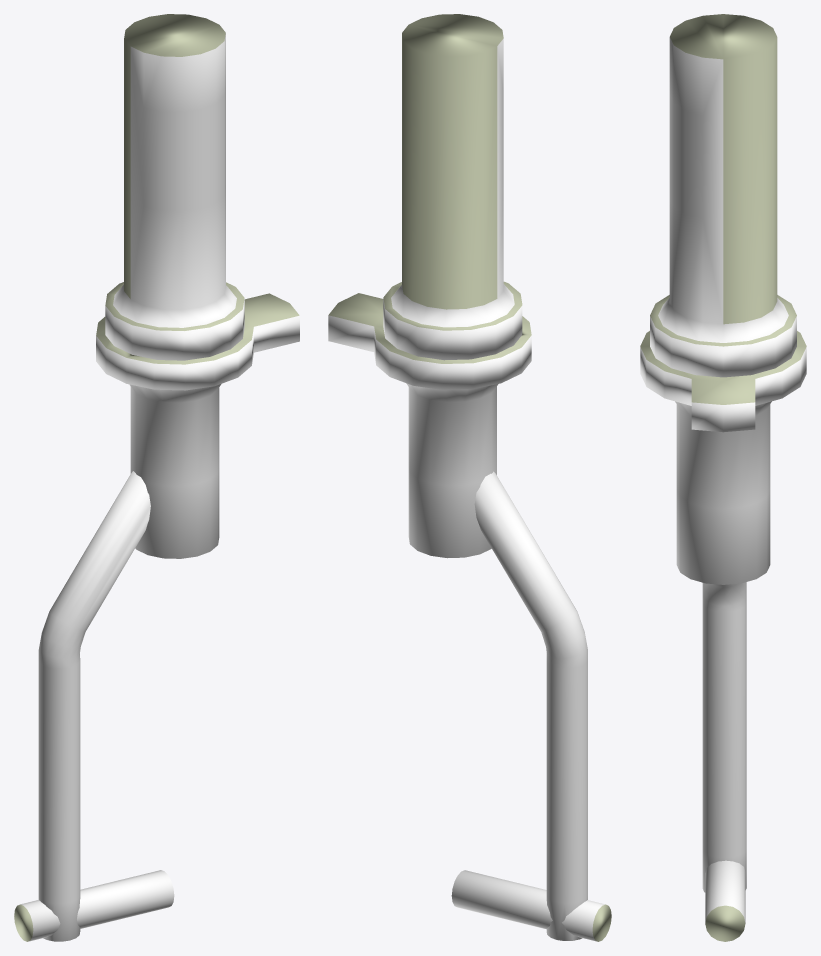
The model's file is p51d-lGearLeg.obj.
3 renders of one model, left to right at view 1: azimuth 30°, elevation 25°; view 2: azimuth 150°, elevation 25°; view 3: azimuth 270°, elevation 25°, orthographic. The views are drawn at different scales.
Parts seen in each view (by area): view 1: lGearLeg; view 2: lGearLeg; view 3: lGearLeg.
Boxes of the visible parts, box(x1,y1,x2,y2) form: lGearLeg: box(14, 14, 299, 941); lGearLeg: box(328, 14, 611, 941); lGearLeg: box(640, 14, 806, 941).
Size of the model in its own units: 0.0185 by 0.0581 by 0.00964.
